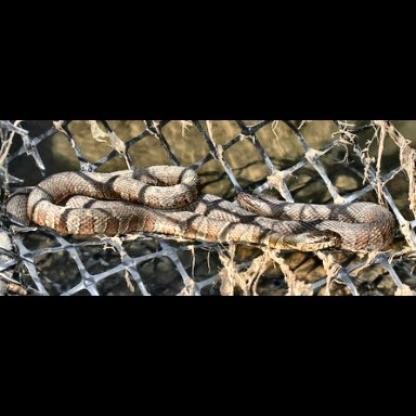Snake: (13, 160, 394, 253)
